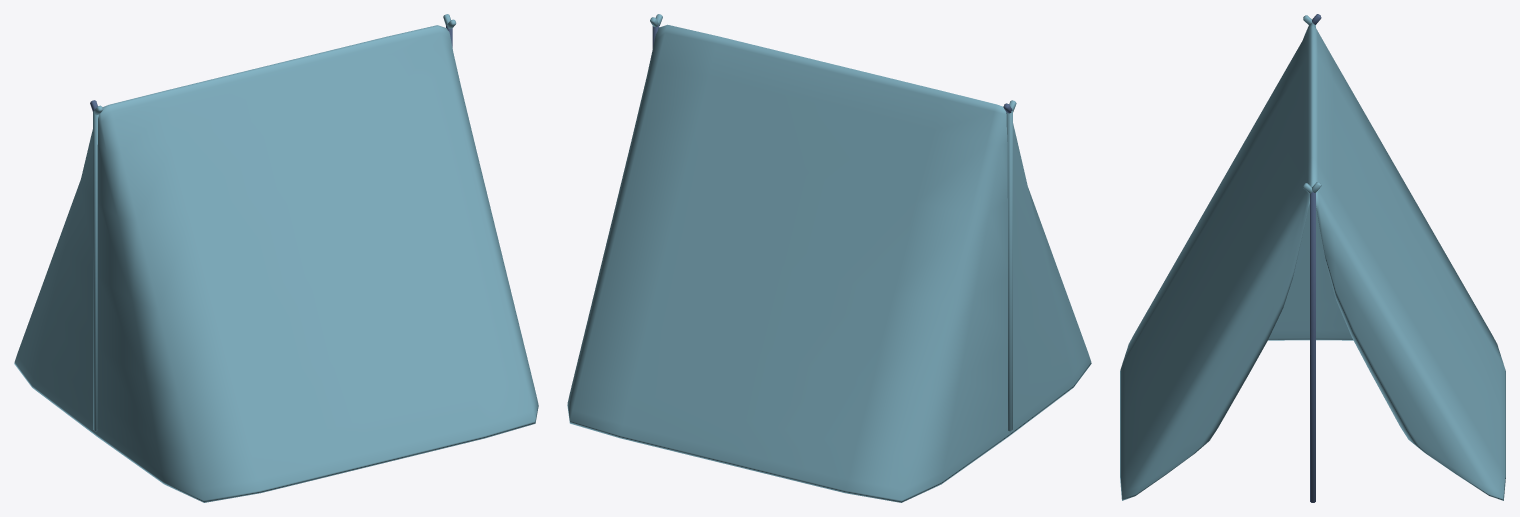
The model's file is Tent.glb.
The picture shows the model from 3 angles, left to right: view 1: azimuth 30°, elevation 25°; view 2: azimuth 150°, elevation 25°; view 3: azimuth 270°, elevation 25°; orthographic projection. The views are drawn at different scales.
Visible parts, largest first — view 1: Plane; view 2: Plane; view 3: Plane.
Part boxes in pixels (box(x1,y1,x2,y2)): Plane: box(14, 14, 538, 502); Plane: box(567, 14, 1091, 502); Plane: box(1120, 14, 1505, 502).
Size of the model in its own units: 6.95 by 6.2 by 6.66.
